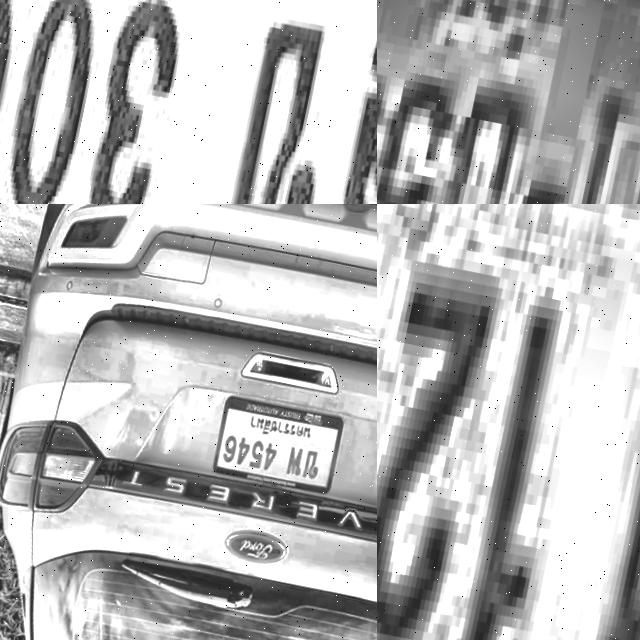license-plate: (377, 204, 640, 640), (0, 0, 377, 204), (377, 0, 640, 204), (208, 391, 345, 499)
